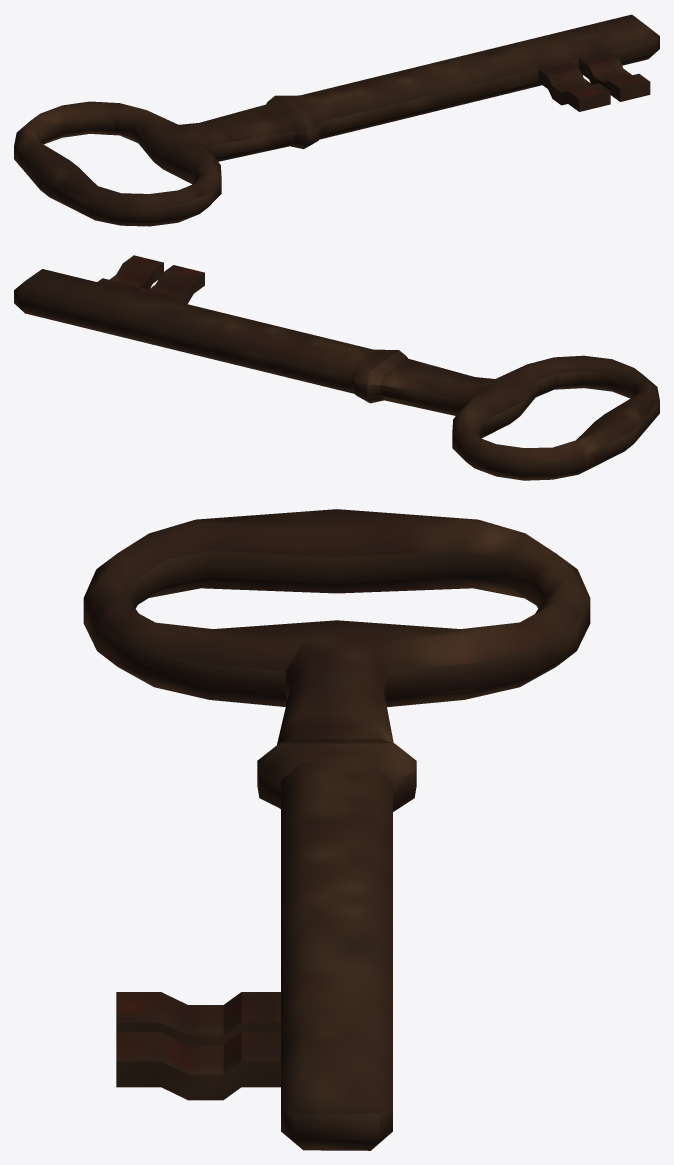
File: key_mp_3_2.obj
3 views of the same model, one above another, from view 1: azimuth 30°, elevation 25°; view 2: azimuth 150°, elevation 25°; view 3: azimuth 270°, elevation 25° (orthographic). The views are drawn at different scales.
Parts seen in each view (by area): view 1: key_mp_3_2; view 2: key_mp_3_2; view 3: key_mp_3_2.
Boxes of the visible parts, x1,y1,x2,y2 form: key_mp_3_2: [14, 14, 659, 226]; key_mp_3_2: [14, 255, 659, 480]; key_mp_3_2: [83, 509, 590, 1150].
Size of the model in its own units: 0.1428 by 0.00726 by 0.0514.
